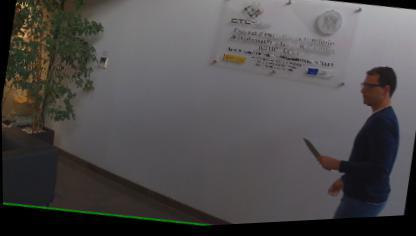knife: (296, 137, 334, 175)
